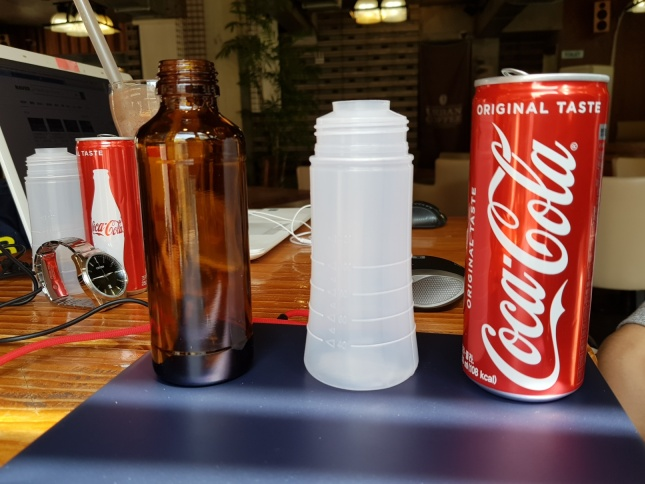Can: (459, 63, 612, 402)
Glass: (146, 58, 257, 389)
Plastic: (298, 93, 423, 393)
